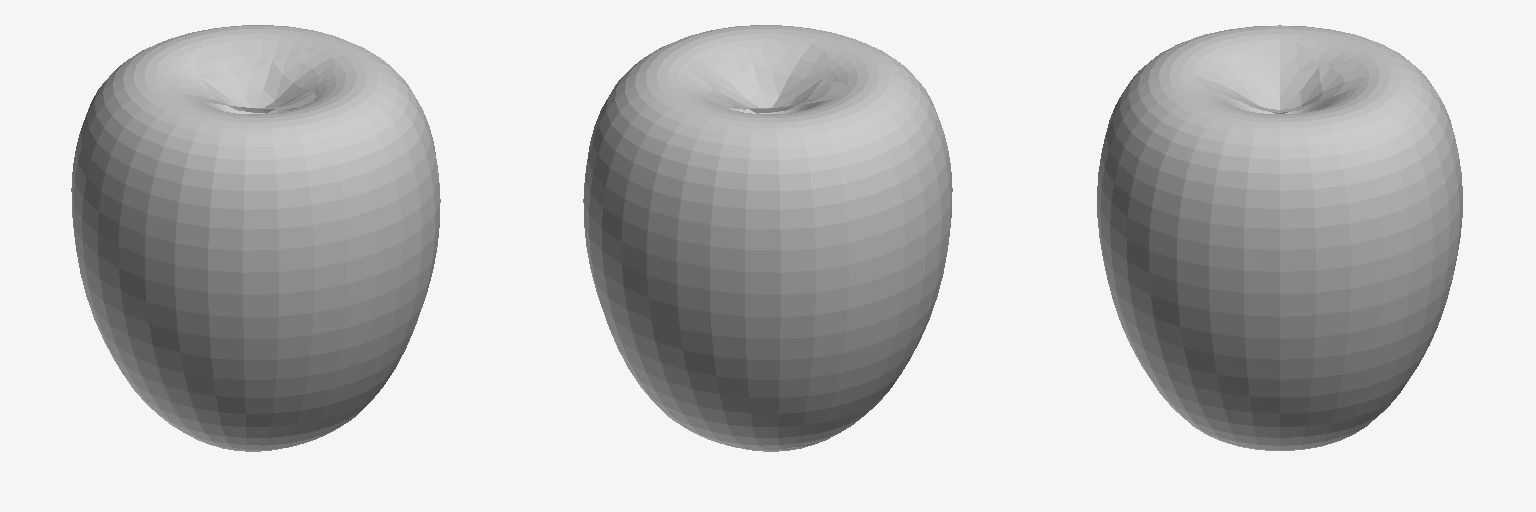
Rendered from Persimmon.obj.
The picture shows the model from 3 angles: view 1: azimuth 30°, elevation 25°; view 2: azimuth 150°, elevation 25°; view 3: azimuth 270°, elevation 25°; orthographic projection.
Parts seen in each view (by area): view 1: Cube, Plane; view 2: Cube, Plane; view 3: Cube, Plane.
Part boxes in pixels (x1,y1,x2,y2): Cube: (71,25,440,451); Plane: (176,42,335,113); Cube: (583,25,952,451); Plane: (688,42,847,113); Cube: (1097,25,1462,450); Plane: (1193,39,1366,113).
Bounding box in the file's own units: 149 × 162 × 149.